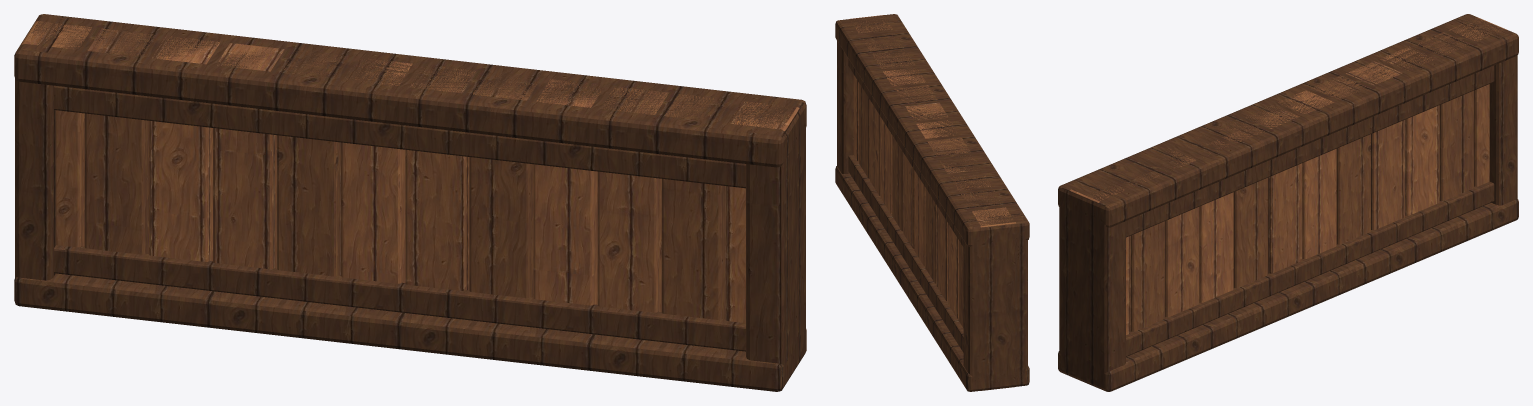
The model's file is half_wall_diagonal__plank_root.glb.
The picture shows the model from 3 angles, left to right: view 1: azimuth 30°, elevation 25°; view 2: azimuth 150°, elevation 25°; view 3: azimuth 270°, elevation 25°; orthographic projection. The views are drawn at different scales.
Visible parts, largest first — view 1: model; view 2: model; view 3: model.
Part boxes in pixels (left/top/right/bottom): model: left=14, top=14, right=806, bottom=391; model: left=835, top=14, right=1029, bottom=391; model: left=1058, top=14, right=1518, bottom=391.
Size of the model in its own units: 2.24 by 1 by 2.24.
Materials: 7 (7 with a texture image).
